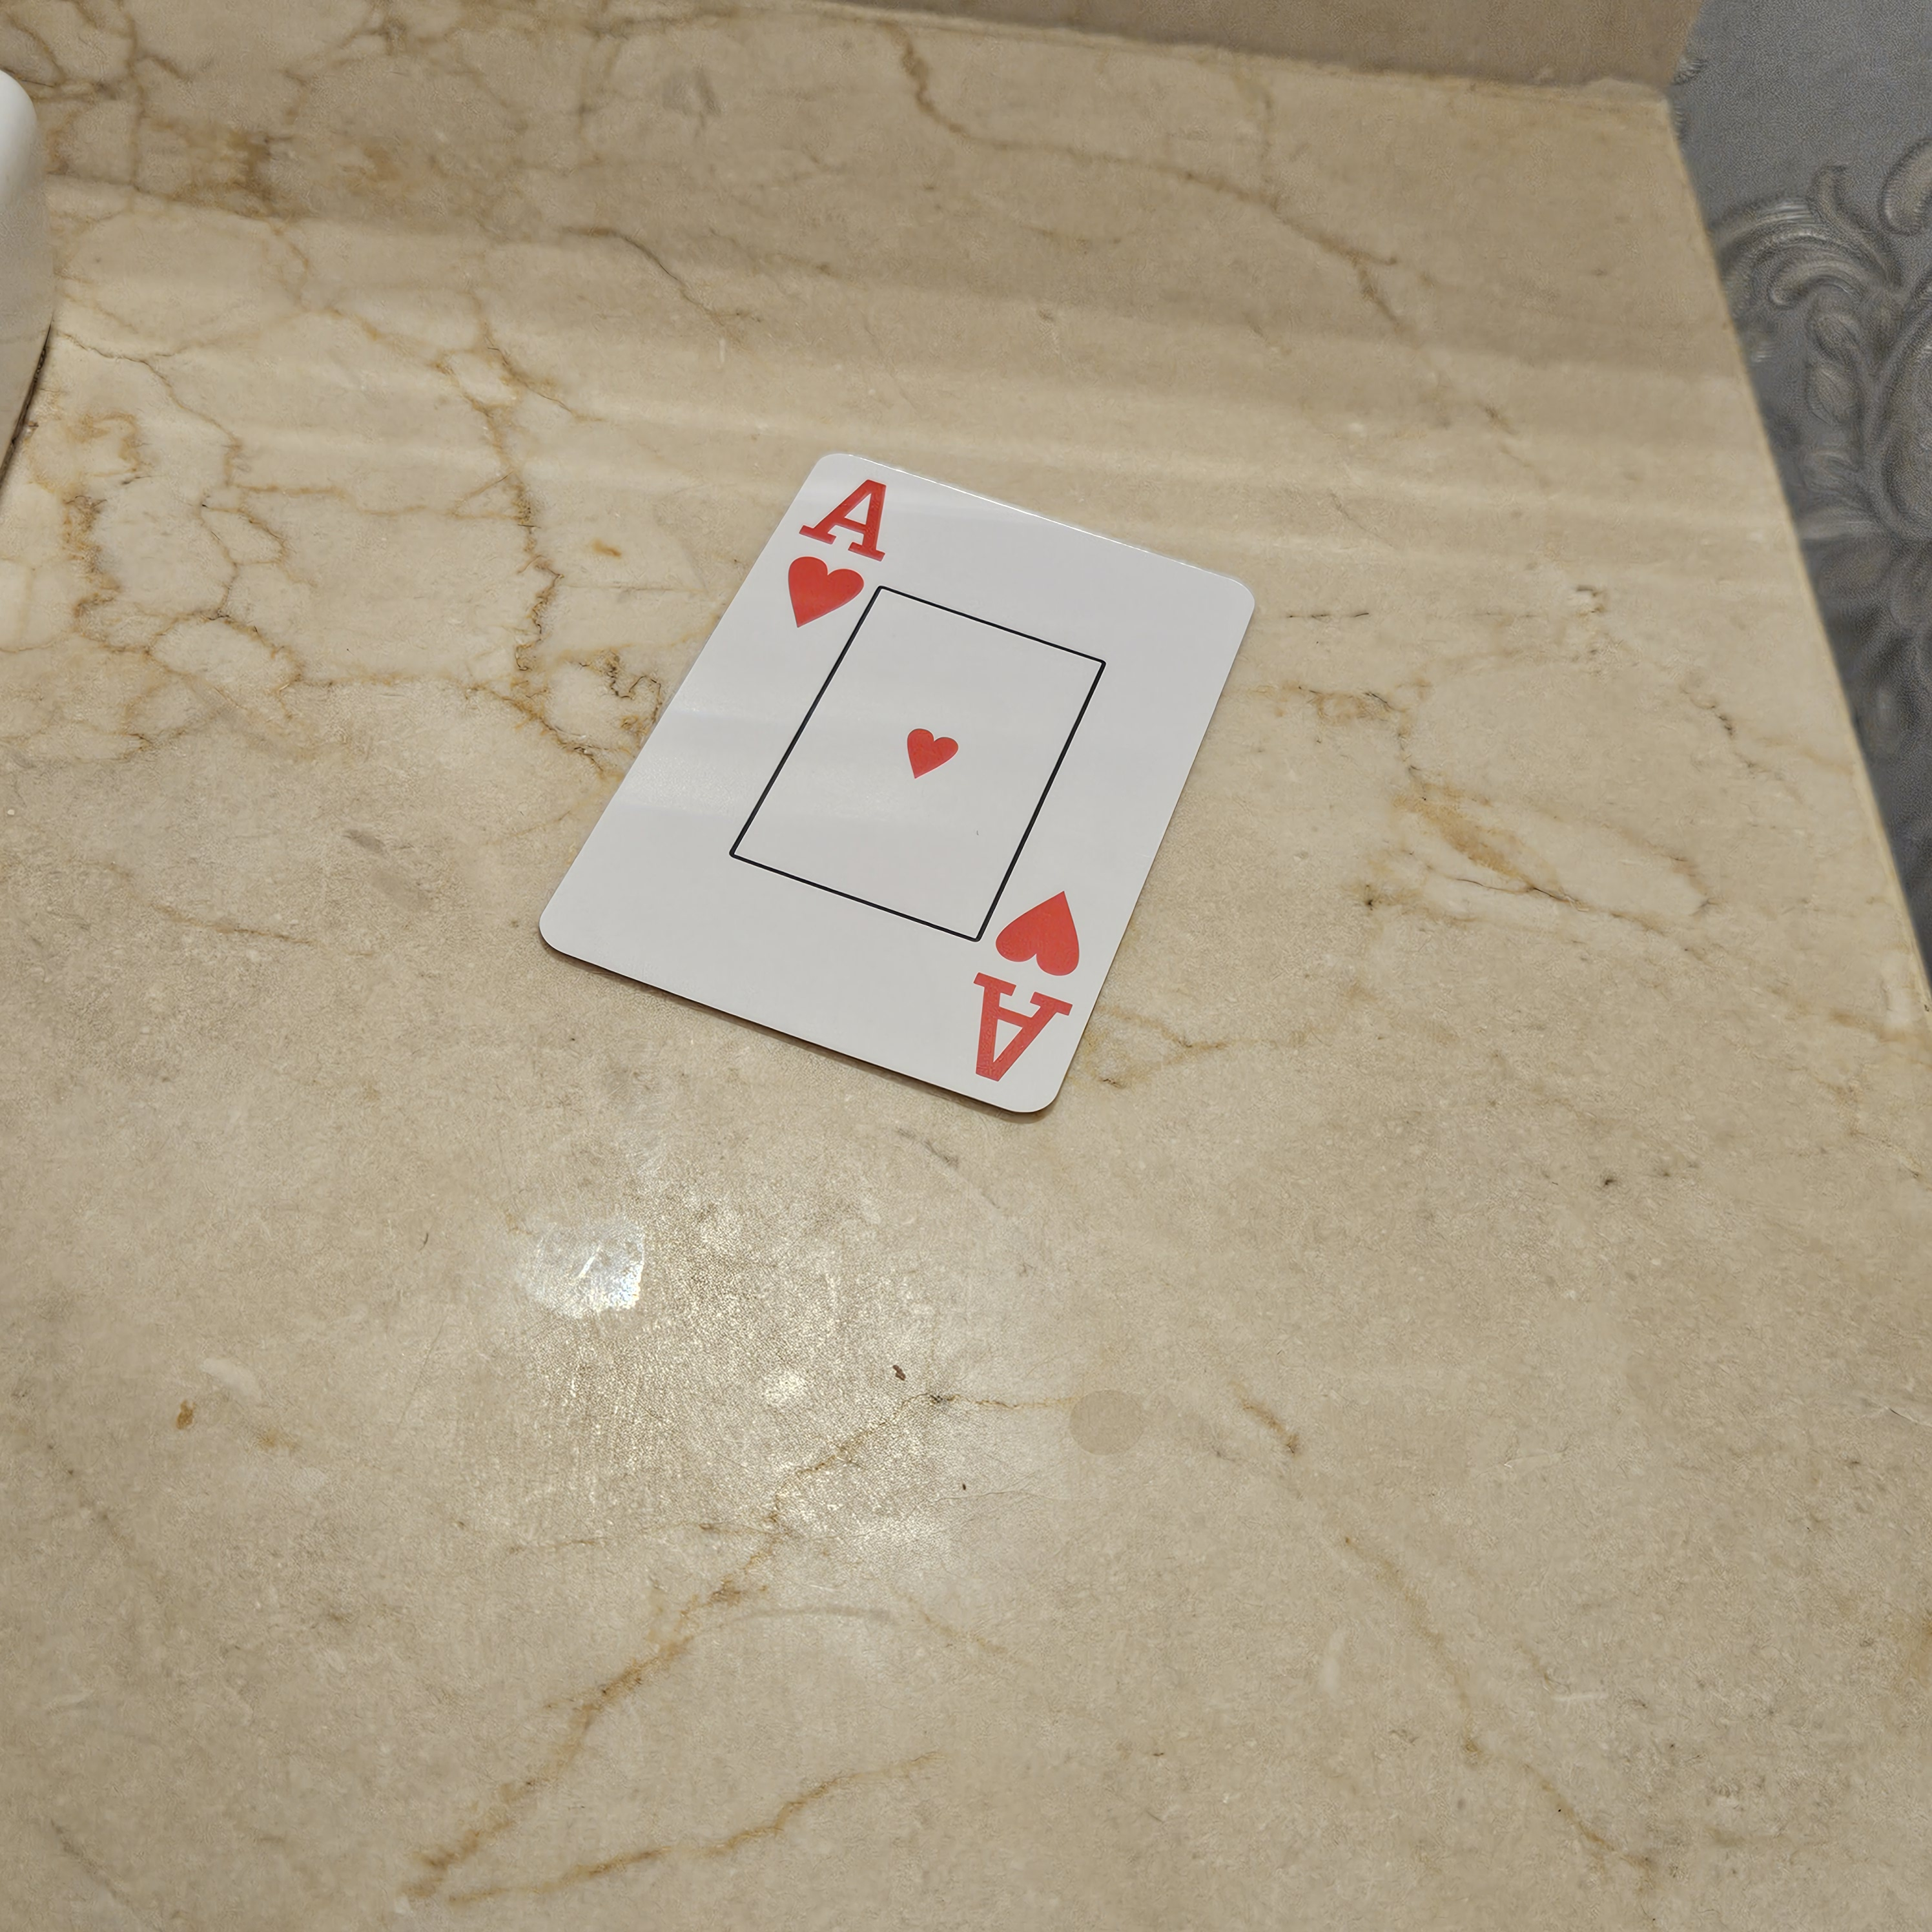AC: (957, 863, 1092, 1099), (775, 455, 899, 637)
